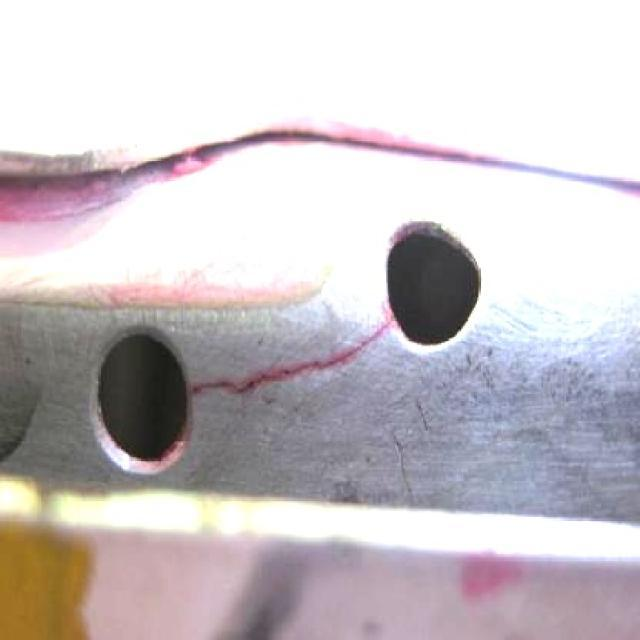crack: (238, 370, 295, 398), (296, 350, 358, 372), (358, 320, 395, 351), (198, 378, 237, 398)
